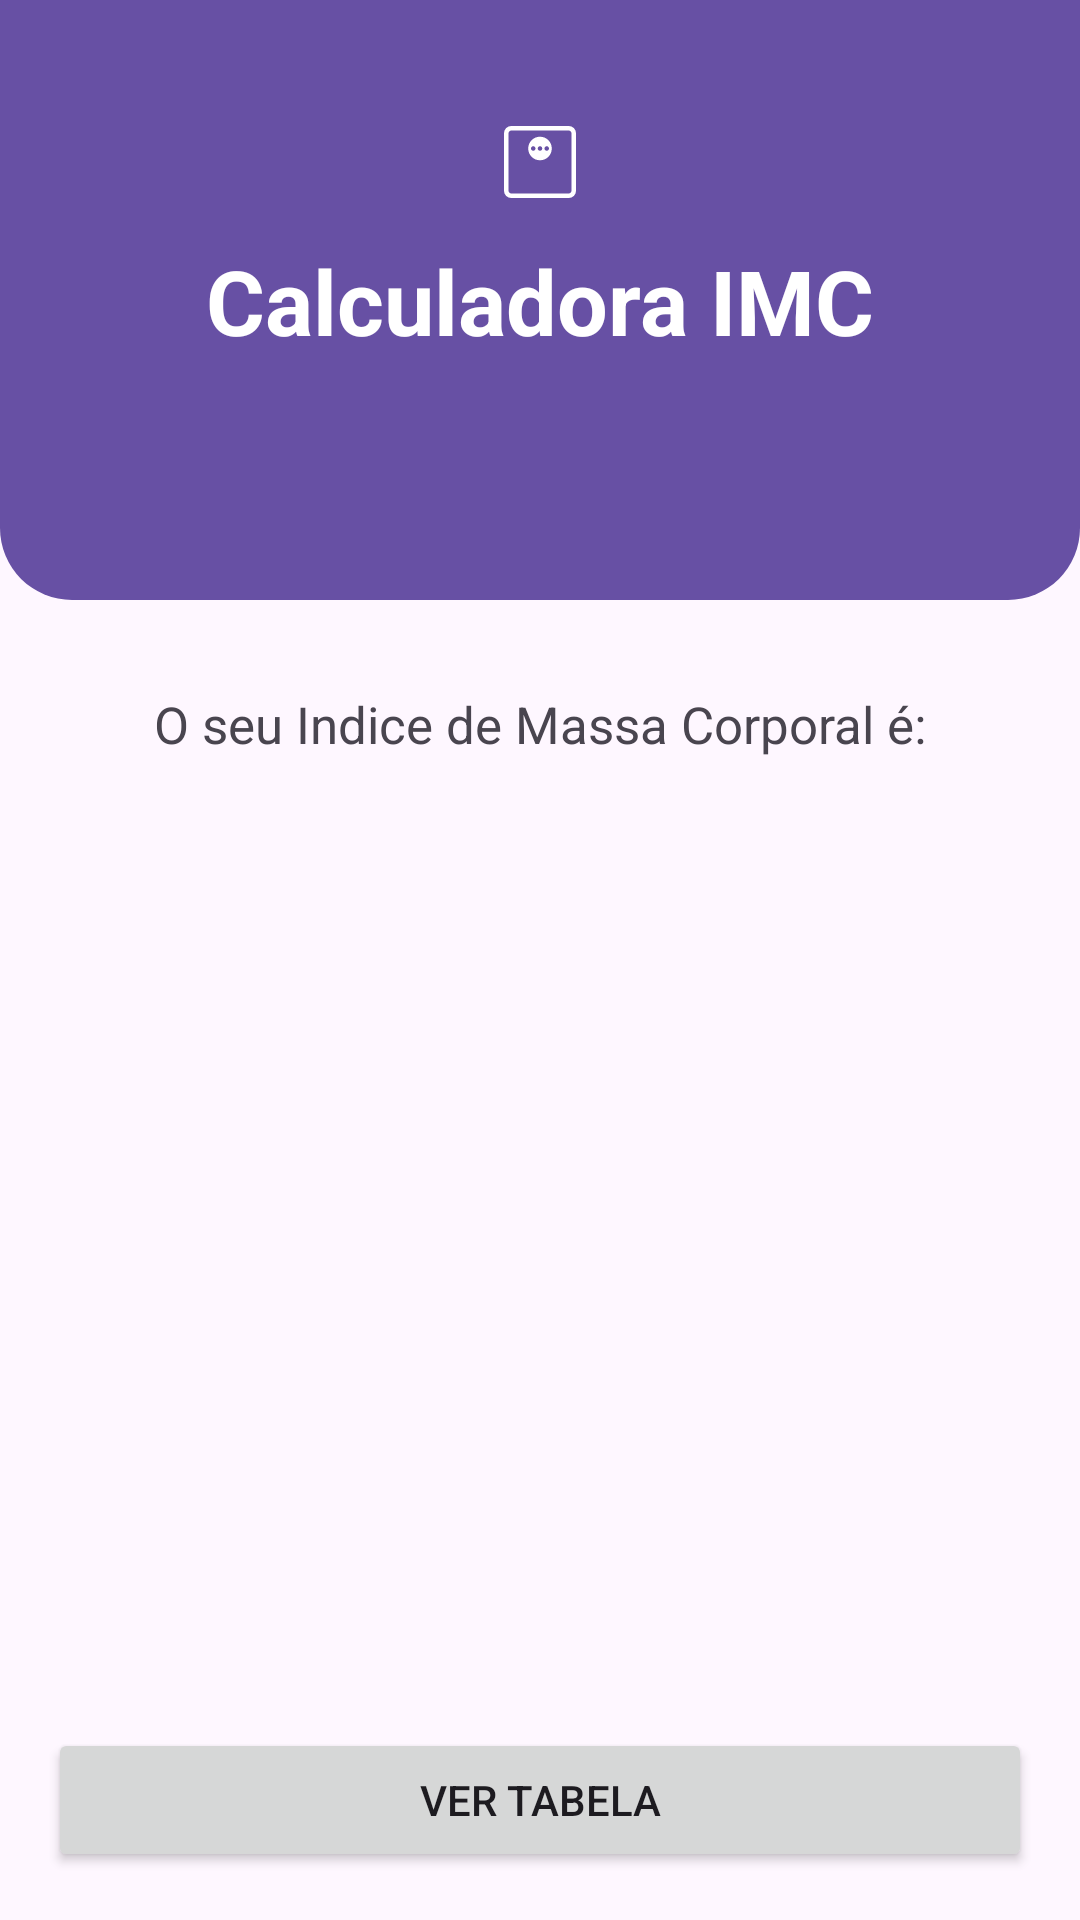

Icons on this 1080 × 1920 Android screen, each with the point to tap as point (x, y):
Imagem balança IMC: point (540, 162)
